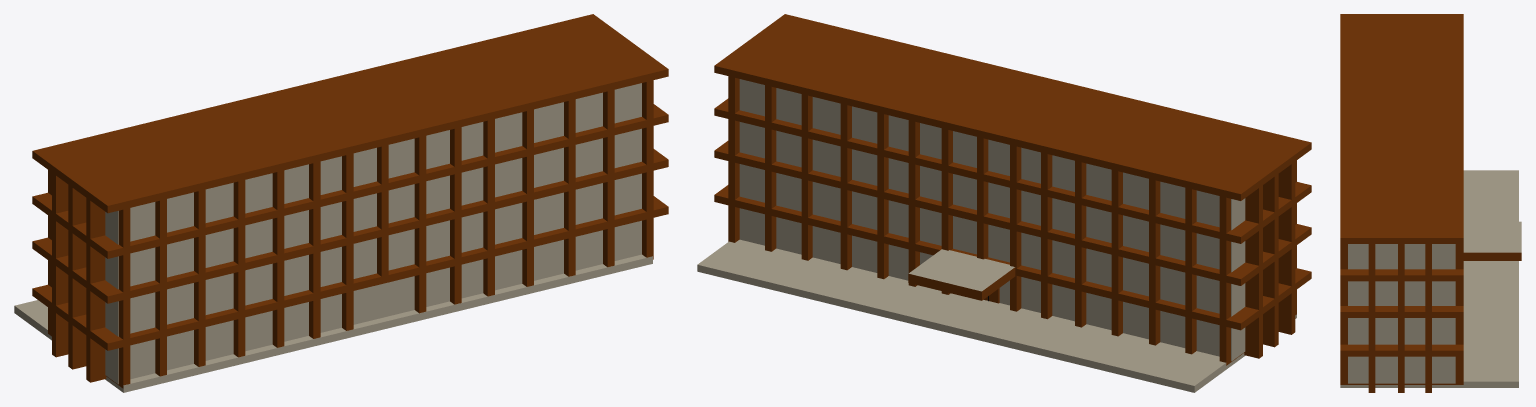
File: lib.fbx
The picture shows the model from 3 angles, left to right: view 1: azimuth 30°, elevation 25°; view 2: azimuth 150°, elevation 25°; view 3: azimuth 270°, elevation 25°; orthographic projection. The views are drawn at different scales.
Parts seen in each view (by area): view 1: pCube18, pCube13, pCube10, pCube17, pCube15, pCube16, pCube14, pCube12, pCube37, pCube34, pCube36, pCube21 (+15 smaller); view 2: pCube18, pCube37, pCube13, pCube17, pCube15, pCube10, pCube16, pCube14, pCube12, polySurface254, pCube34, pCube35 (+16 smaller); view 3: pCube18, pCube37, pCube10, pCube13, polySurface254, pCube17, pCube15, pCube22, pCube16, pCube12, pCube14, pCube34 (+2 smaller).
Part boxes in pixels (box(x1,y1,x2,y2)): pCube18: box(32, 14, 668, 213); pCube13: box(105, 173, 641, 336); pCube10: box(105, 220, 641, 384); pCube17: box(105, 83, 641, 244); pCube15: box(105, 128, 641, 289); pCube16: box(32, 104, 668, 258); pCube14: box(32, 149, 668, 303); pCube12: box(32, 196, 668, 350); pCube37: box(14, 254, 652, 392); pCube34: box(86, 191, 106, 382); pCube36: box(68, 178, 86, 369); pCube21: box(48, 170, 130, 388); pCube18: box(714, 14, 1311, 200); pCube37: box(697, 239, 1296, 392); pCube13: box(739, 164, 1245, 316); pCube17: box(739, 79, 1245, 230); pCube15: box(739, 122, 1245, 272); pCube10: box(739, 208, 1245, 361); pCube16: box(714, 98, 1311, 243); pCube14: box(714, 141, 1311, 285); pCube12: box(714, 185, 1311, 330); polySurface254: box(908, 249, 1015, 300); pCube34: box(1278, 155, 1295, 334); pCube35: box(1244, 185, 1262, 358); pCube18: box(1340, 14, 1463, 243); pCube37: box(1340, 170, 1518, 387); pCube10: box(1348, 356, 1455, 383); pCube13: box(1348, 318, 1455, 344); polySurface254: box(1463, 221, 1521, 260); pCube17: box(1348, 244, 1455, 269); pCube15: box(1348, 281, 1455, 305); pCube22: box(1340, 244, 1463, 384); pCube16: box(1340, 269, 1463, 281); pCube12: box(1340, 344, 1463, 356); pCube14: box(1340, 306, 1463, 317); pCube34: box(1368, 238, 1375, 392).
Size of the model in its own units: 4.92 by 1.6 by 1.69.
